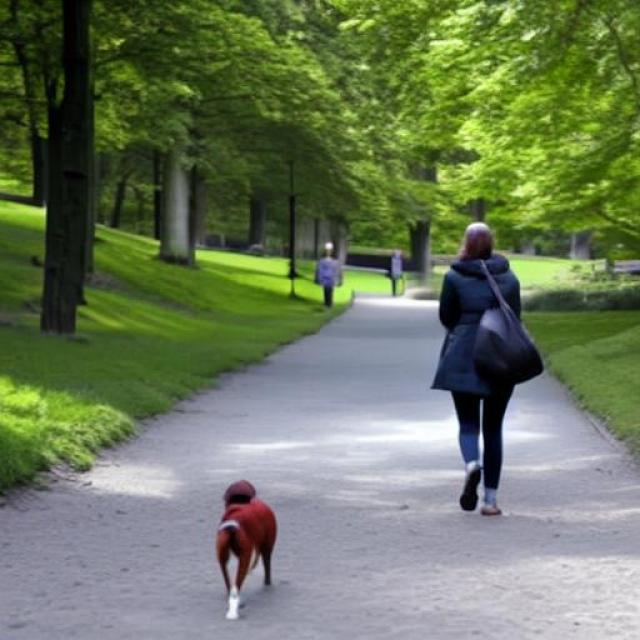Unleashed_Dog: (215, 393, 511, 618)
